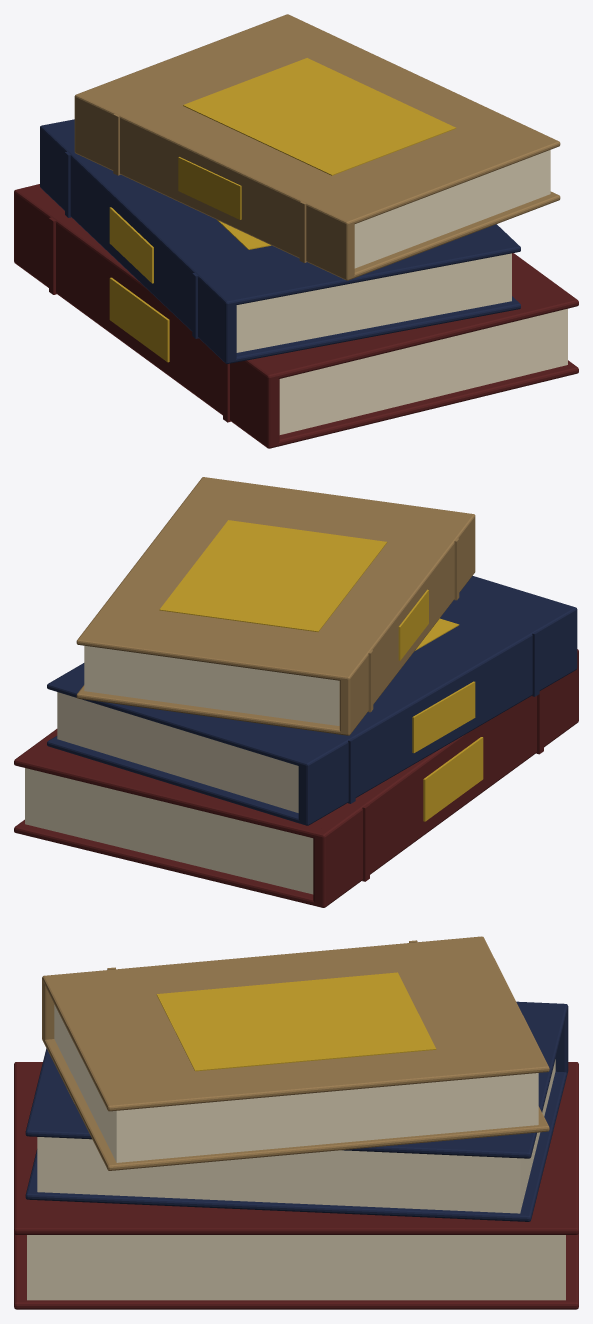
The model's file is BookTriple.fbx.
3 renders of one model, top to bottom at view 1: azimuth 30°, elevation 25°; view 2: azimuth 150°, elevation 25°; view 3: azimuth 270°, elevation 25°, orthographic. The views are drawn at different scales.
Visible parts, largest first — view 1: BookTriple; view 2: BookTriple; view 3: BookTriple.
Part boxes in pixels (x1,y1,x2,y2): BookTriple: (14, 14, 578, 448); BookTriple: (14, 477, 578, 907); BookTriple: (14, 936, 578, 1309).
Size of the model in its own units: 17.66 by 9.34 by 22.
